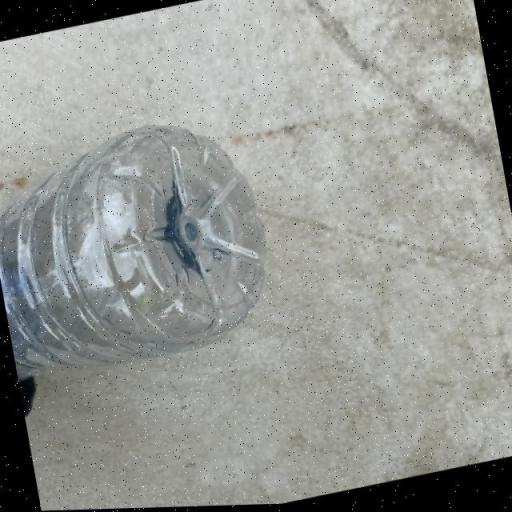plastic: (0, 104, 282, 387)
